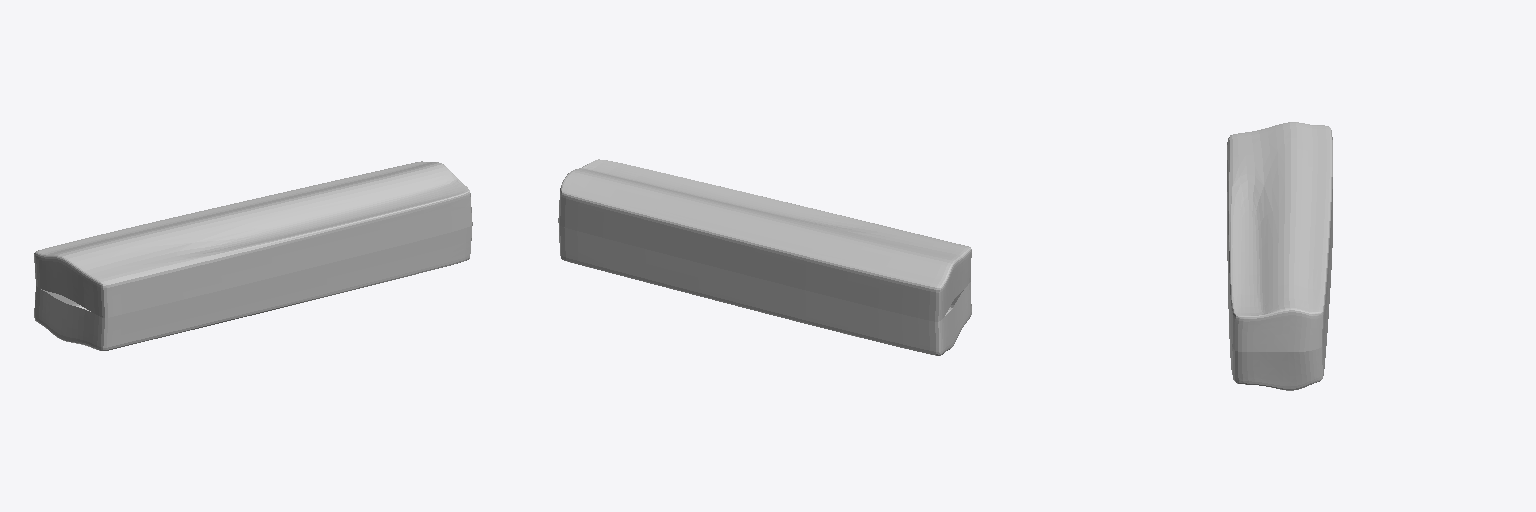
3 views of the same model, side by side, from view 1: azimuth 30°, elevation 25°; view 2: azimuth 150°, elevation 25°; view 3: azimuth 270°, elevation 25° (orthographic).
Parts seen in each view (by area): view 1: 3DSMesh_25_25; view 2: 3DSMesh_25_25; view 3: 3DSMesh_25_25.
Boxes of the visible parts, x1=… form: 3DSMesh_25_25: x1=34, y1=161, x2=472, y2=350; 3DSMesh_25_25: x1=558, y1=159, x2=971, y2=355; 3DSMesh_25_25: x1=1227, y1=122, x2=1332, y2=390.
Size of the model in its own units: 1.35 by 0.2759 by 0.315.